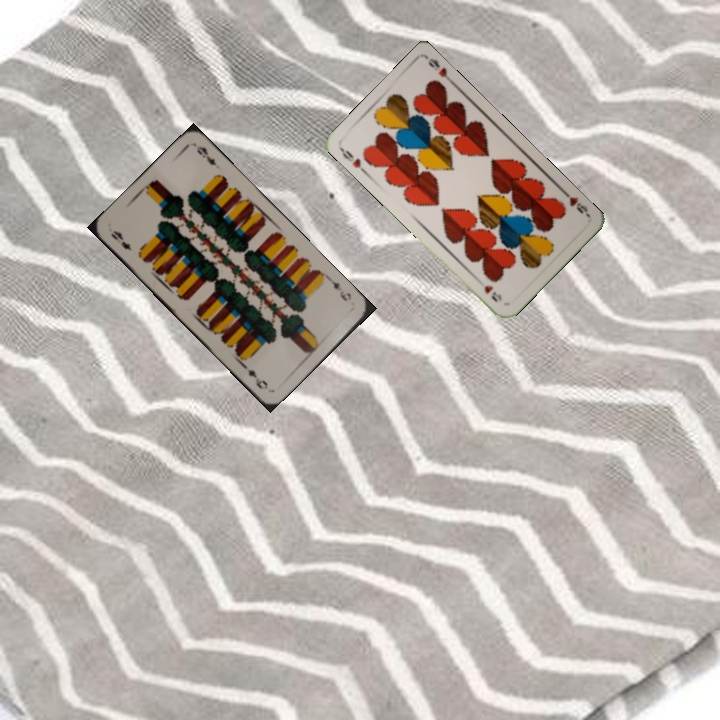E9: (325, 274, 354, 304), (106, 226, 134, 253)
H9: (336, 144, 369, 176), (559, 186, 591, 218)
